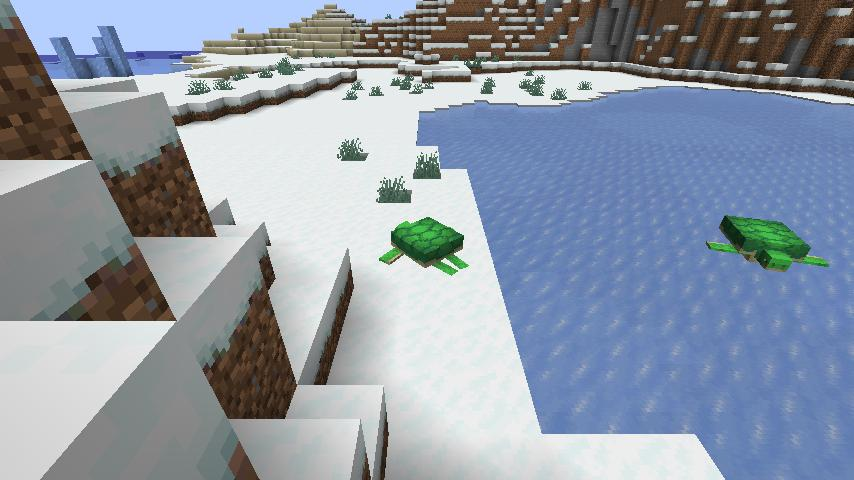turtle: (704, 211, 832, 275), (376, 212, 470, 281)
